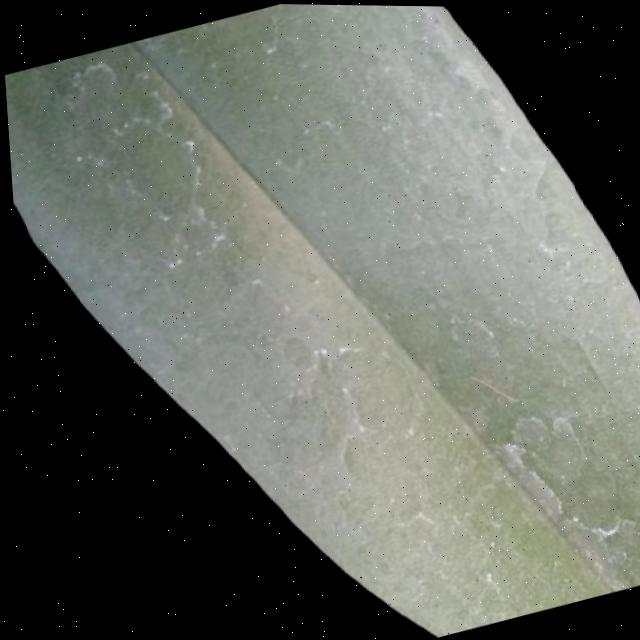mite: (418, 278, 640, 568), (475, 383, 634, 556), (496, 396, 591, 488), (49, 52, 126, 116), (437, 302, 502, 367), (465, 388, 529, 447), (499, 404, 552, 455), (449, 496, 503, 546), (271, 327, 314, 372)
